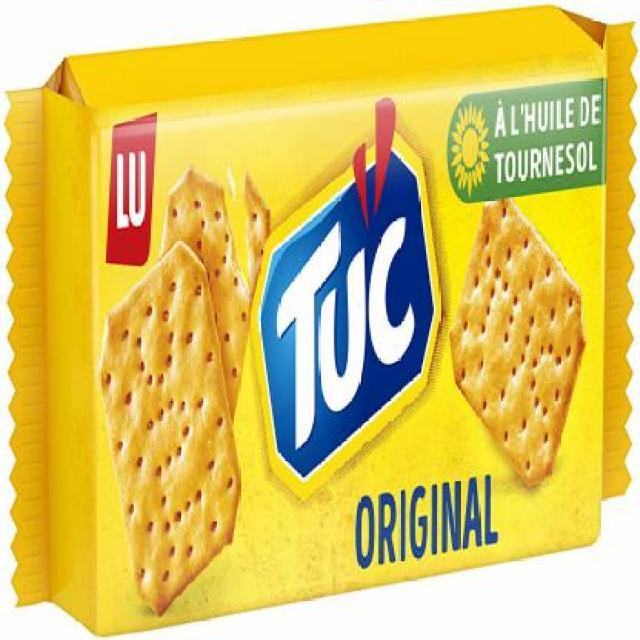Cracker: (20, 24, 628, 616)
